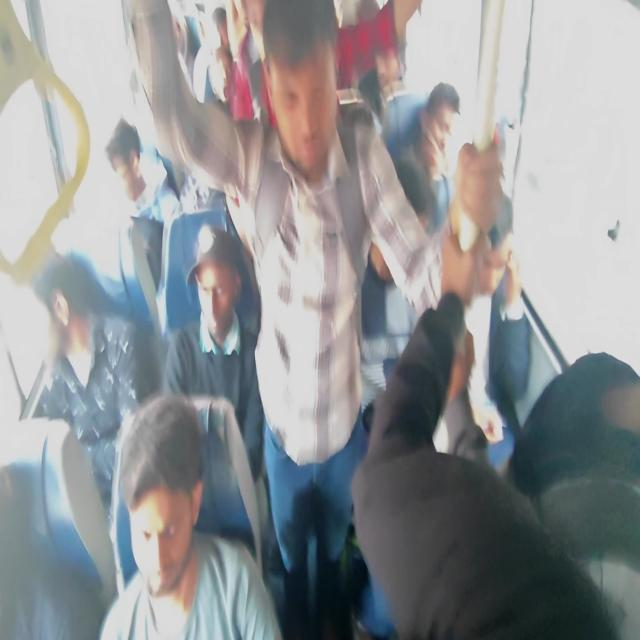person: (260, 0, 342, 172), (0, 462, 59, 636), (436, 320, 496, 465), (22, 266, 96, 379), (129, 479, 194, 594), (105, 117, 175, 222), (389, 155, 435, 291), (189, 225, 243, 334), (476, 211, 524, 297), (424, 81, 463, 165), (220, 45, 234, 65)
